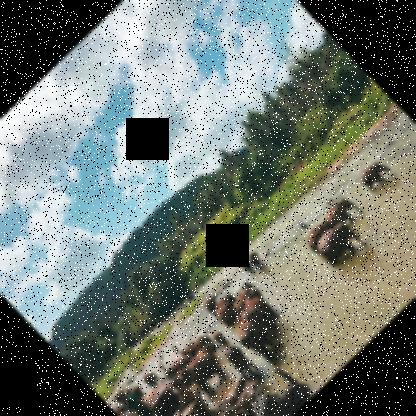Elephas-maximus: (174, 346, 232, 404), (229, 314, 285, 370), (252, 369, 317, 415), (310, 216, 364, 270), (234, 300, 283, 350), (320, 191, 366, 237), (298, 212, 344, 258), (218, 340, 264, 386), (162, 350, 207, 394), (240, 286, 281, 328), (355, 156, 396, 196), (226, 284, 267, 324), (178, 333, 216, 370), (210, 290, 245, 326), (196, 337, 226, 368), (214, 299, 244, 329), (112, 386, 140, 415), (192, 331, 218, 358), (243, 248, 269, 274), (200, 292, 226, 318), (140, 366, 165, 390), (234, 278, 258, 302), (236, 256, 258, 278), (209, 328, 229, 349), (129, 382, 148, 401)
